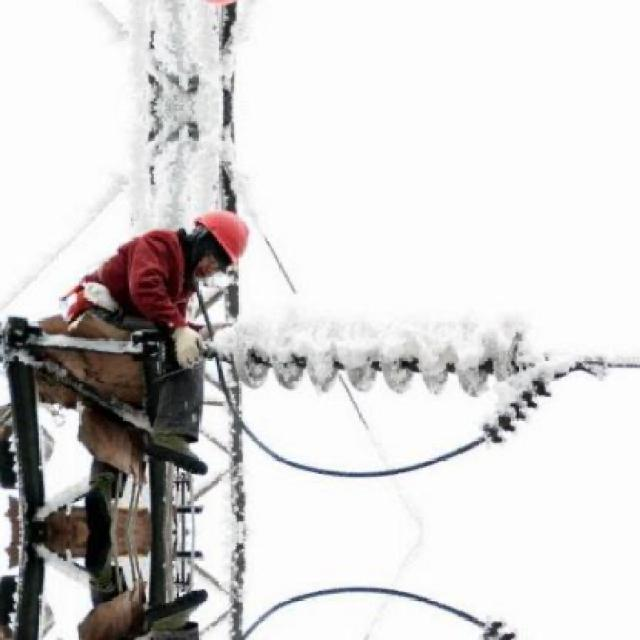helmet: (180, 203, 257, 283)
